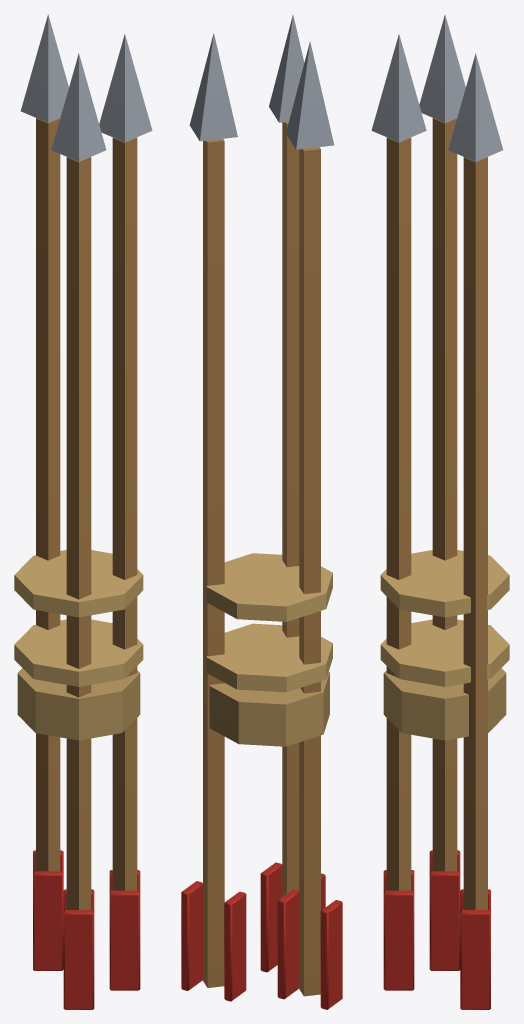
File: item_arrow.glb
3 renders of one model, left to right at view 1: azimuth 90°, elevation 25°; view 2: azimuth 150°, elevation 25°; view 3: azimuth 270°, elevation 25°, orthographic.
Parts seen in each view (by area): view 1: item_arrow, item_arrow_detail; view 2: item_arrow, item_arrow_detail; view 3: item_arrow, item_arrow_detail.
Part boxes in pixels (bbox=[...]): item_arrow: bbox=[17, 14, 152, 1009]; item_arrow_detail: bbox=[14, 550, 143, 686]; item_arrow: bbox=[181, 14, 342, 1009]; item_arrow_detail: bbox=[206, 553, 332, 692]; item_arrow: bbox=[371, 14, 506, 1009]; item_arrow_detail: bbox=[380, 550, 509, 686].
Size of the model in its own units: 0.098 by 0.68 by 0.09.
